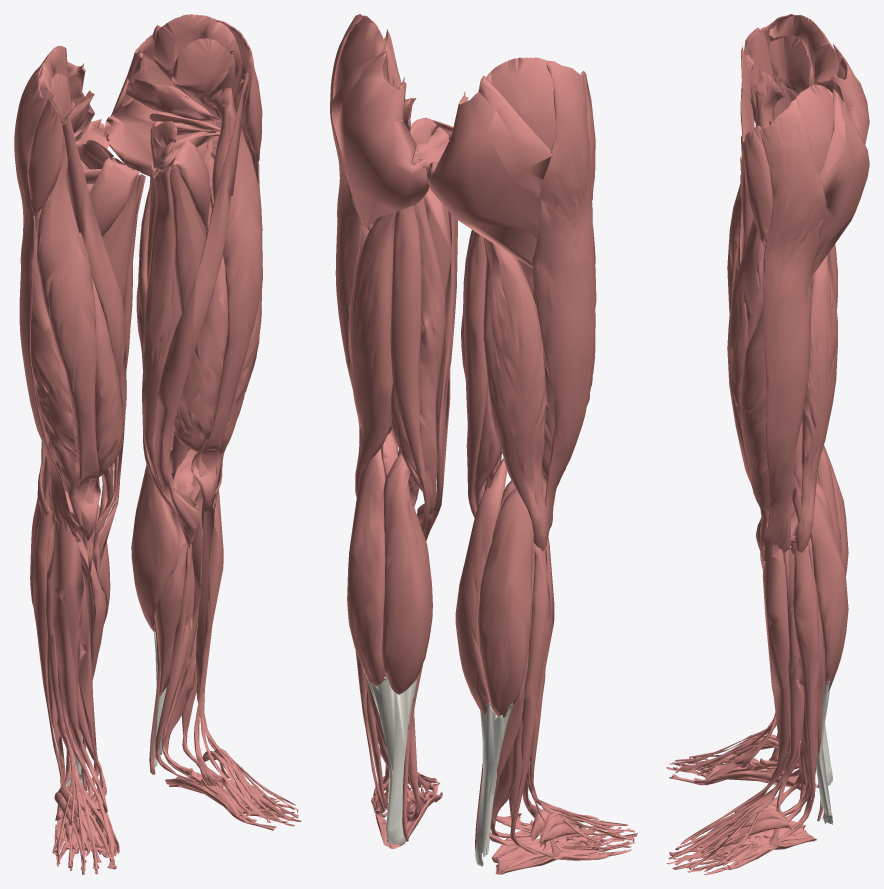
File: muscles-membre-inf.lo.glb
3 views of the same model, side by side, from view 1: azimuth 30°, elevation 25°; view 2: azimuth 150°, elevation 25°; view 3: azimuth 270°, elevation 25° (orthographic). The views are drawn at different scales.
Parts seen in each view (by area): view 1: FJ1433, FJ1433M, FJ1434M, FJ1421M, FJ1423, FJ1442, FJ1434, FJ1443M, FJ1439, FJ1397M, FJ1418M, FJ1443 (+39 smaller); view 2: FJ1423, FJ1418, FJ1395, FJ1418M, FJ1394, FJ1397M, FJ1395M, FJ1436M, FJ1394M, FJ1435M, FJ1397, FJ1436 (+25 smaller); view 3: FJ1423M, FJ1395M, FJ1418M, FJ1433M, FJ1394M, FJ1442M, FJ1439M, FJ1410M, FJ1406M, FJ1438M, FJ1419, FJ1419M (+23 smaller).
Boxes of the visible parts, x1,y1,x2,y2 form: FJ1433: (36,131,100,540); FJ1433M: (191,87,262,511); FJ1434M: (154,71,248,544); FJ1421M: (142,166,196,508); FJ1423: (14,61,80,542); FJ1442: (31,208,86,538); FJ1434: (60,115,126,566); FJ1443M: (173,186,228,476); FJ1439: (52,518,107,812); FJ1397M: (131,430,180,632); FJ1418M: (105,25,218,187); FJ1443: (85,278,124,503); FJ1423: (532,60,595,539); FJ1418: (427,75,551,268); FJ1395: (483,237,548,550); FJ1418M: (331,51,429,230); FJ1394: (477,488,534,717); FJ1397M: (382,453,432,694); FJ1395M: (349,212,396,497); FJ1436M: (390,205,430,531); FJ1394M: (347,449,385,686); FJ1435M: (390,197,445,523); FJ1397: (455,458,507,715); FJ1436: (463,231,488,517); FJ1423M: (759,99,826,562); FJ1395M: (793,253,837,552); FJ1418M: (811,88,869,276); FJ1433M: (727,219,764,557); FJ1394M: (810,493,848,691); FJ1442M: (740,305,769,556); FJ1439M: (731,545,789,817); FJ1410M: (748,543,819,839); FJ1406M: (668,545,804,871); FJ1438M: (743,125,772,247); FJ1419: (769,15,839,92); FJ1419M: (769,84,834,175).
Bounding box in the file's own units: 0.3321 × 1.02 × 0.2463.
